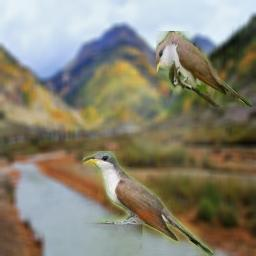Cuckoo: (83, 151, 213, 256), (156, 31, 252, 107)
